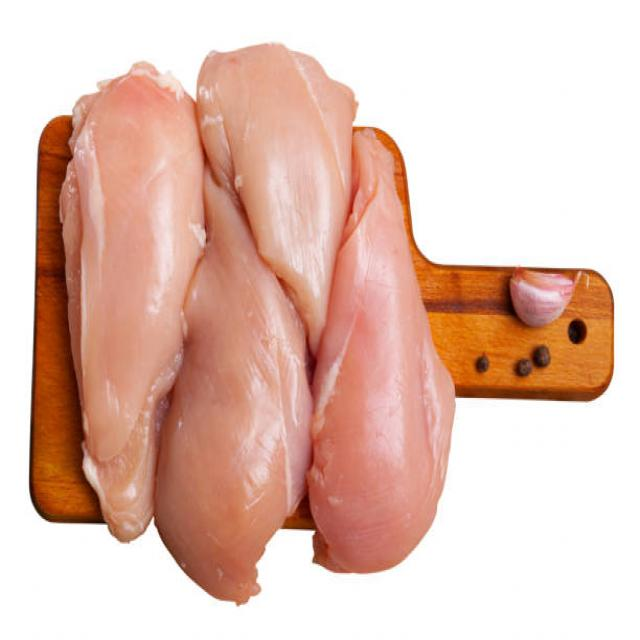Chicken: (317, 176, 453, 604), (48, 44, 167, 530), (209, 25, 356, 245), (184, 267, 285, 572)
